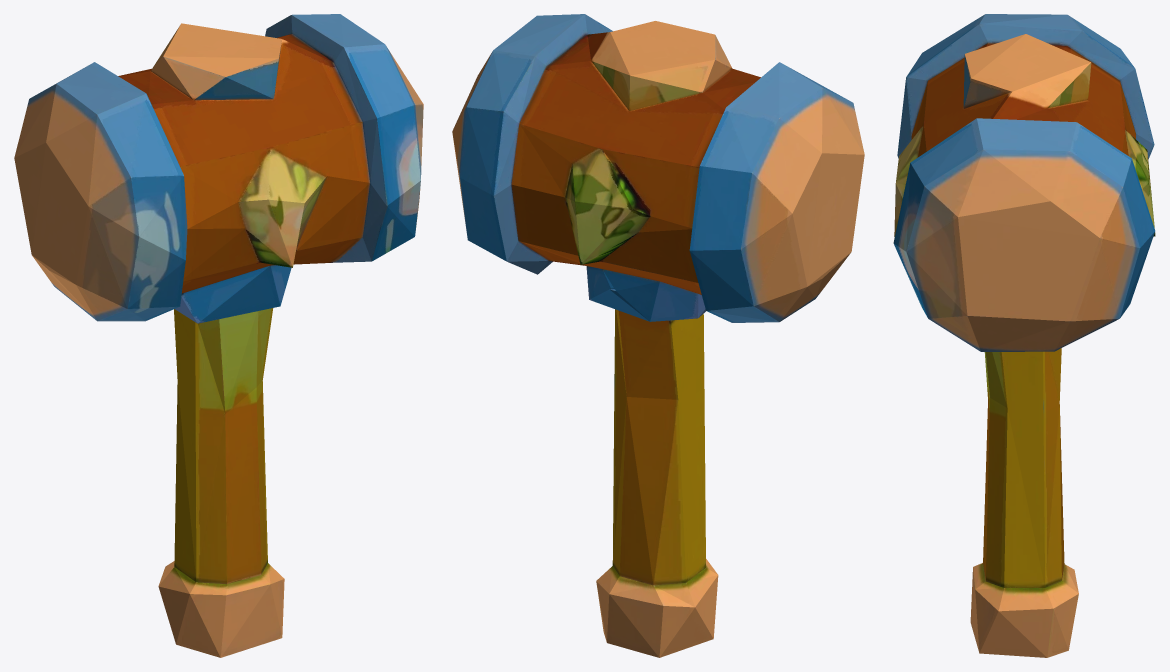
File: hammer_weapon.glb
3 views of the same model, side by side, from view 1: azimuth 30°, elevation 25°; view 2: azimuth 150°, elevation 25°; view 3: azimuth 270°, elevation 25° (orthographic). The views are drawn at different scales.
Visible parts, largest first — view 1: TexturedMesh_.obj; view 2: TexturedMesh_.obj; view 3: TexturedMesh_.obj.
Part boxes in pixels (bbox=[...]): TexturedMesh_.obj: bbox=[14, 14, 423, 657]; TexturedMesh_.obj: bbox=[452, 14, 864, 657]; TexturedMesh_.obj: bbox=[893, 14, 1155, 657].
Bounding box in the file's own units: 1.18 × 1.98 × 0.8055.
1 material, 1 textured.
